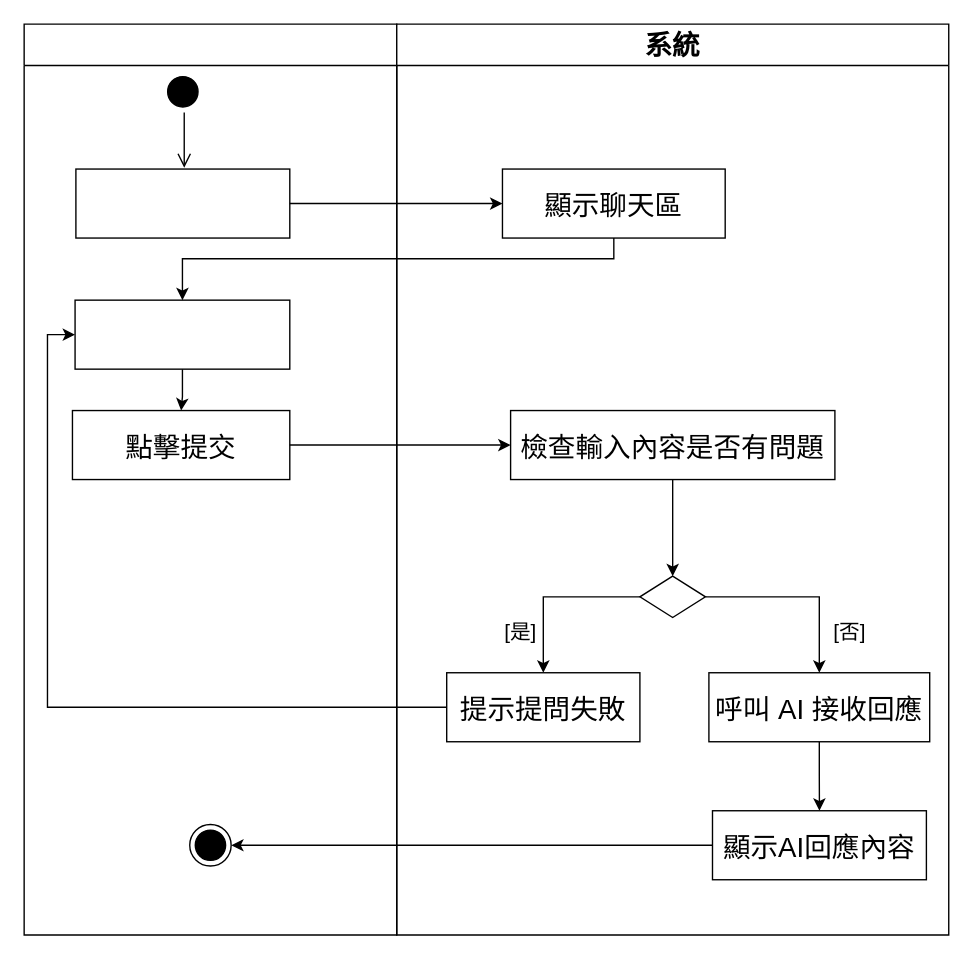
Some shapes in this 973 by 959 pixel diagram are drawn without their labels. Each missing label, with the box of its shape:
使用者: (23, 23, 397, 935)
輸入問題: (74, 299, 290, 369)
點選AI助手頁面: (75, 168, 290, 238)
